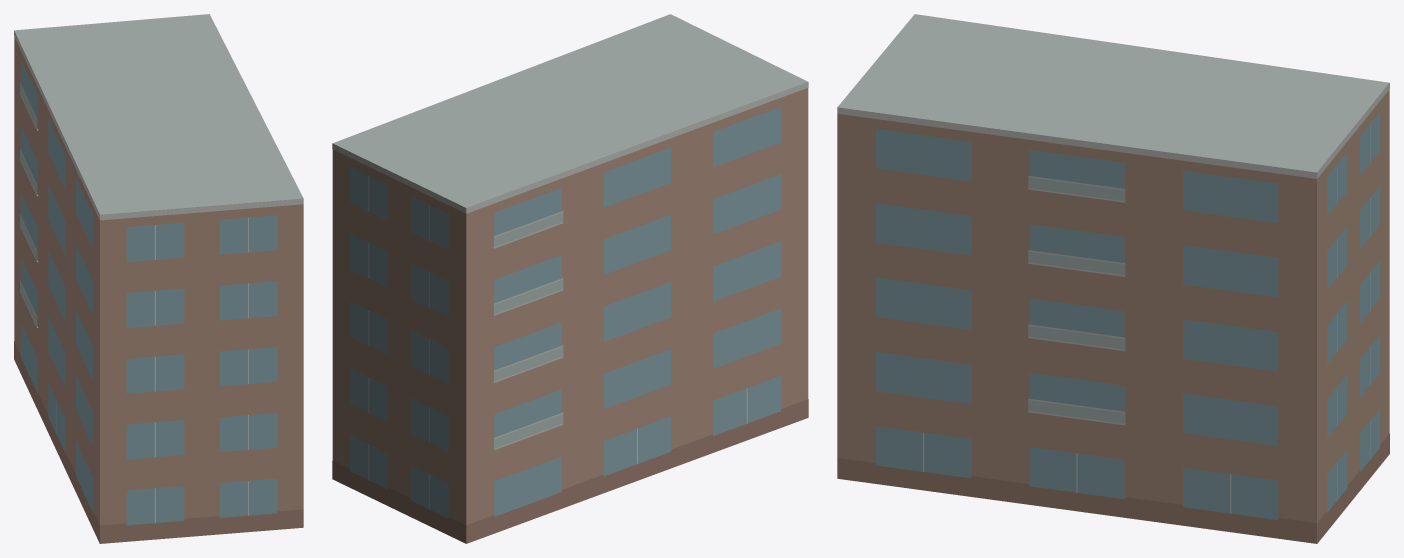
Rendered from survey-upis-32890077.glb.
The picture shows the model from 3 angles, left to right: view 1: azimuth 30°, elevation 25°; view 2: azimuth 150°, elevation 25°; view 3: azimuth 270°, elevation 25°; orthographic projection. The views are drawn at different scales.
Parts seen in each view (by area): view 1: survey-upis-32890077.tmp; view 2: survey-upis-32890077.tmp; view 3: survey-upis-32890077.tmp.
Part boxes in pixels (x1=…): survey-upis-32890077.tmp: x1=14, y1=14, x2=303, y2=543; survey-upis-32890077.tmp: x1=332, y1=14, x2=808, y2=543; survey-upis-32890077.tmp: x1=837, y1=14, x2=1389, y2=543.
Size of the model in its own units: 13.01 by 14.2 by 19.16.
